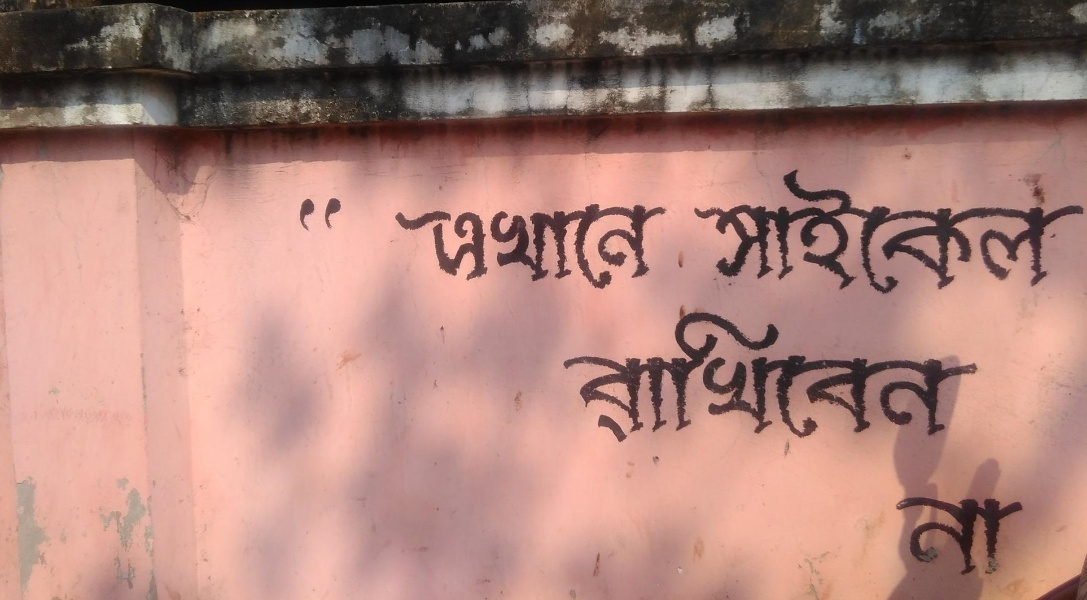text: (577, 302, 592, 444), (593, 302, 608, 444), (609, 302, 624, 444), (625, 302, 640, 444), (641, 302, 656, 444), (657, 302, 672, 444), (673, 302, 688, 444), (689, 302, 704, 444), (705, 302, 720, 444), (721, 302, 736, 444), (737, 302, 752, 444), (753, 302, 768, 444), (769, 302, 784, 444), (785, 302, 800, 444), (801, 302, 816, 444), (817, 302, 832, 444), (833, 302, 848, 444), (849, 302, 864, 444), (865, 302, 880, 444), (881, 302, 896, 444), (897, 302, 912, 444), (913, 302, 928, 444), (929, 302, 944, 444), (945, 302, 960, 444), (961, 302, 976, 444), (562, 302, 576, 444), (689, 165, 704, 297), (705, 165, 720, 297), (721, 165, 736, 297), (737, 165, 752, 297), (753, 165, 768, 297), (769, 165, 784, 297), (785, 165, 800, 297), (801, 165, 816, 297), (817, 165, 832, 297), (833, 165, 848, 297), (849, 165, 864, 297), (865, 165, 880, 297), (881, 165, 896, 297), (897, 165, 912, 297), (913, 165, 928, 297), (929, 165, 944, 297), (945, 165, 960, 297), (961, 165, 976, 297), (977, 165, 992, 297), (993, 165, 1008, 297), (1009, 165, 1024, 297), (1025, 165, 1040, 297), (1041, 165, 1056, 297), (1057, 165, 1072, 297), (1073, 165, 1085, 297), (401, 199, 416, 293), (417, 199, 432, 293), (433, 199, 448, 293), (449, 199, 464, 293), (465, 199, 480, 293), (481, 199, 496, 293), (497, 199, 512, 293), (513, 199, 528, 293), (529, 199, 544, 293), (545, 199, 560, 293), (561, 199, 576, 293), (577, 199, 592, 293), (593, 199, 608, 293), (609, 199, 624, 293), (625, 199, 640, 293), (641, 199, 656, 293), (657, 199, 672, 293), (897, 492, 912, 577), (913, 492, 928, 577), (929, 492, 944, 577), (945, 492, 960, 577), (961, 492, 976, 577), (977, 492, 992, 577), (993, 492, 1008, 577), (1009, 492, 1021, 577), (305, 192, 320, 246), (321, 192, 336, 246), (337, 192, 351, 246), (393, 199, 400, 293), (295, 192, 304, 246), (977, 302, 980, 444), (673, 199, 676, 293), (894, 492, 896, 577), (687, 165, 688, 297)
